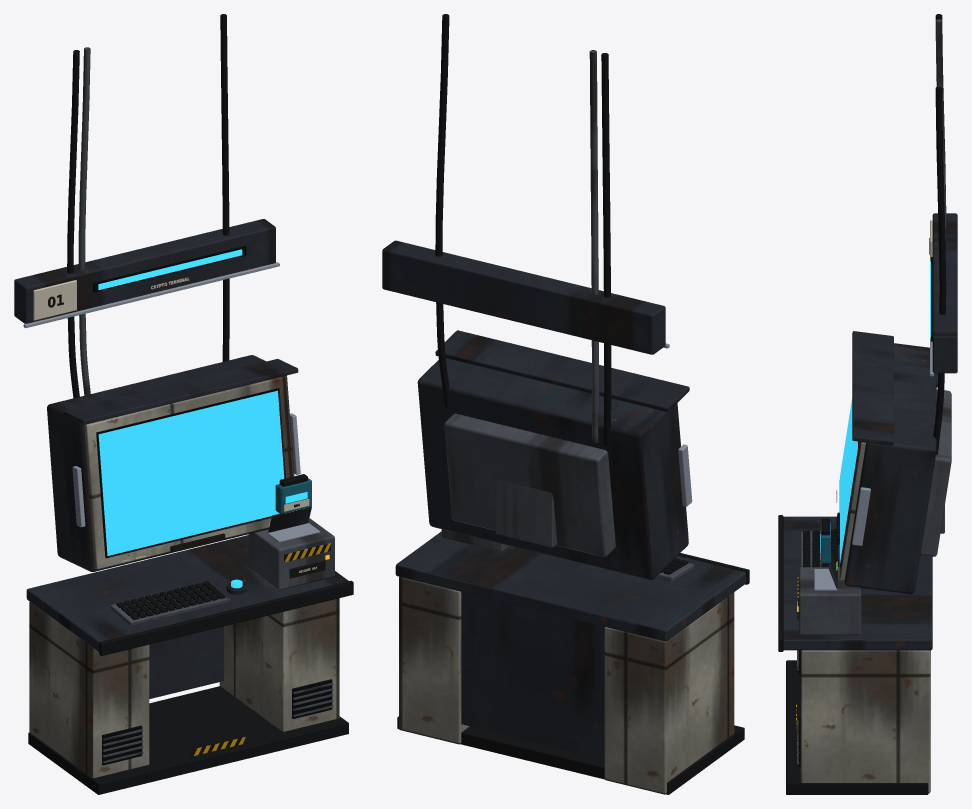
File: ch1-station-1.glb
3 views of the same model, side by side, from view 1: azimuth 30°, elevation 25°; view 2: azimuth 150°, elevation 25°; view 3: azimuth 270°, elevation 25° (orthographic). The views are drawn at different scales.
Parts seen in each view (by area): view 1: screen, pedestal, desk_top, kick, pedestal.001, header_plate, mon_shell, mon_bezel, mon_hood, modesty, desk_edge, bay_housing (+13 smaller); view 2: mon_shell, pedestal, modesty, desk_top, mon_back, header_plate, pedestal.001, mon_hood, kick, arm_wall, mon_cable_0, mon_cable_2 (+1 smaller); view 3: pedestal.001, mon_shell, desk_top, mon_hood, header_plate, bay_housing, kick, mon_back, mon_cable_2, screen, mon_bezel, mon_cable_1 (+4 smaller).
Part boxes in pixels (box(x1,y1,x2,y2)): screen: box(98, 390, 284, 555); pedestal: box(29, 602, 149, 777); desk_top: box(26, 535, 348, 651); kick: box(28, 686, 348, 794); pedestal.001: box(219, 598, 339, 731); header_plate: box(14, 219, 275, 323); mon_shell: box(47, 355, 294, 571); mon_bezel: box(84, 376, 293, 569); mon_hood: box(63, 359, 298, 424); modesty: box(149, 626, 223, 698); desk_edge: box(99, 580, 353, 655); bay_housing: box(248, 518, 334, 589); mon_shell: box(417, 358, 688, 579); pedestal: box(604, 592, 734, 794); modesty: box(461, 592, 604, 758); desk_top: box(395, 531, 746, 641); mon_back: box(444, 413, 615, 557); header_plate: box(382, 240, 665, 354); pedestal.001: box(399, 576, 469, 744); mon_hood: box(435, 330, 689, 411); kick: box(397, 716, 744, 794); arm_wall: box(495, 479, 557, 547); mon_cable_0: box(601, 53, 611, 446); mon_cable_2: box(435, 14, 450, 407); pedestal.001: box(800, 650, 930, 793); mon_shell: box(844, 343, 936, 594); desk_top: box(783, 516, 932, 650); mon_hood: box(852, 331, 893, 445); header_plate: box(932, 213, 957, 373); bay_housing: box(798, 567, 861, 635); kick: box(786, 660, 928, 794); mon_back: box(920, 389, 951, 556); mon_cable_2: box(933, 86, 946, 454); screen: box(840, 398, 857, 563); mon_bezel: box(839, 441, 865, 580); mon_cable_1: box(935, 19, 946, 387).
Size of the model in its own units: 1.42 by 3.6 by 0.8575.
Materials: 16 (4 with a texture image).
